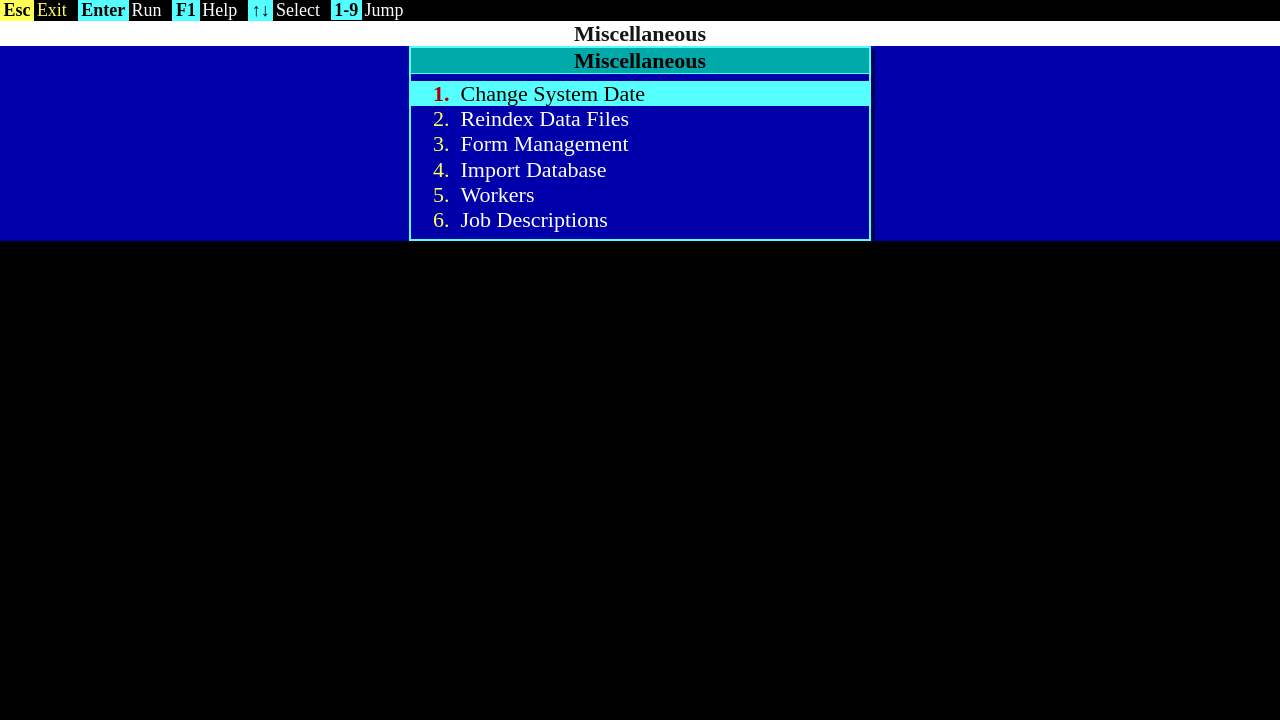
MiscScreen › asks before leaving unsaved job description edits
Click the button "6.Job Descriptions". click: (534, 220)
box: [411, 207, 869, 233]
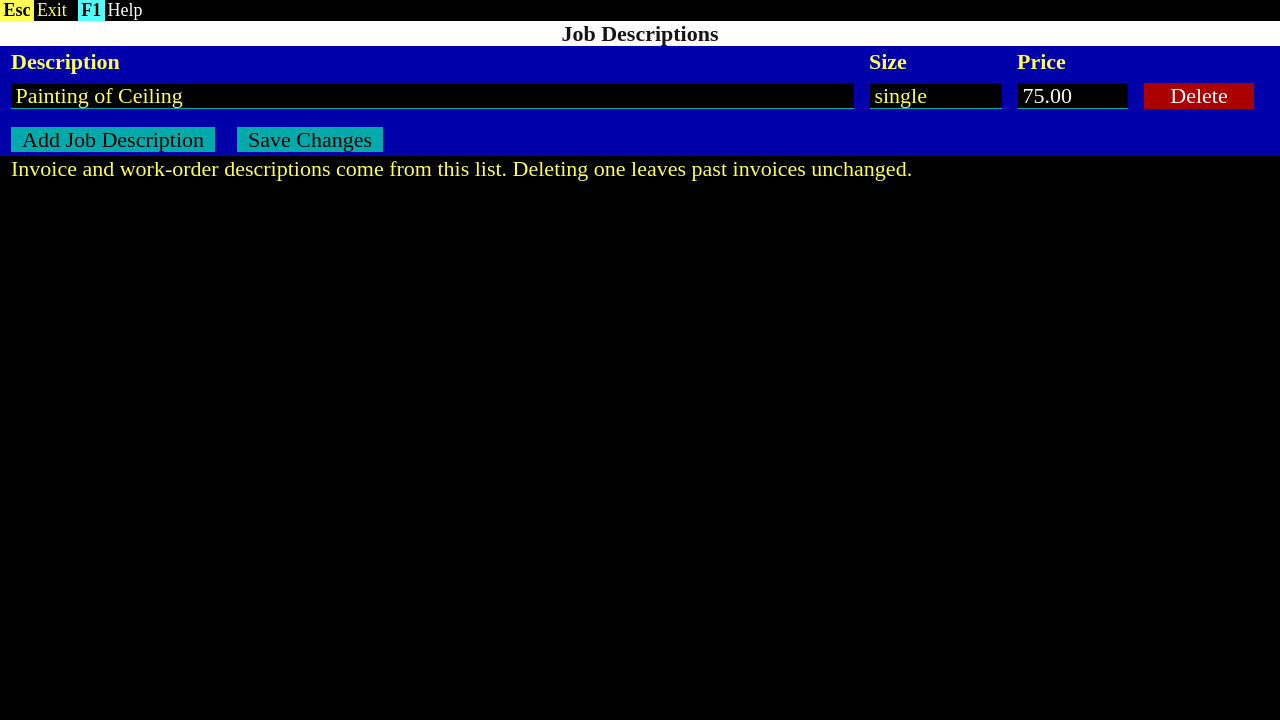
Type " extra" into the field named "Job description 1". click: (432, 96)
box: [11, 83, 854, 109]
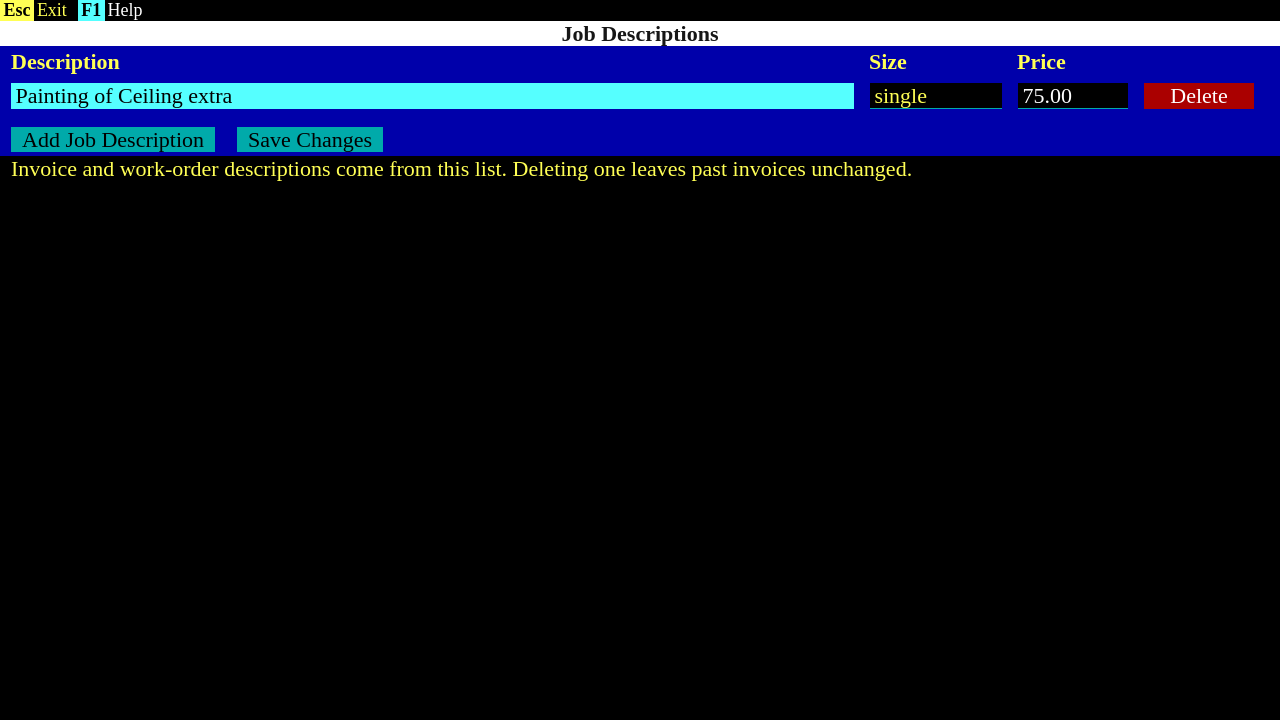
Press Escape
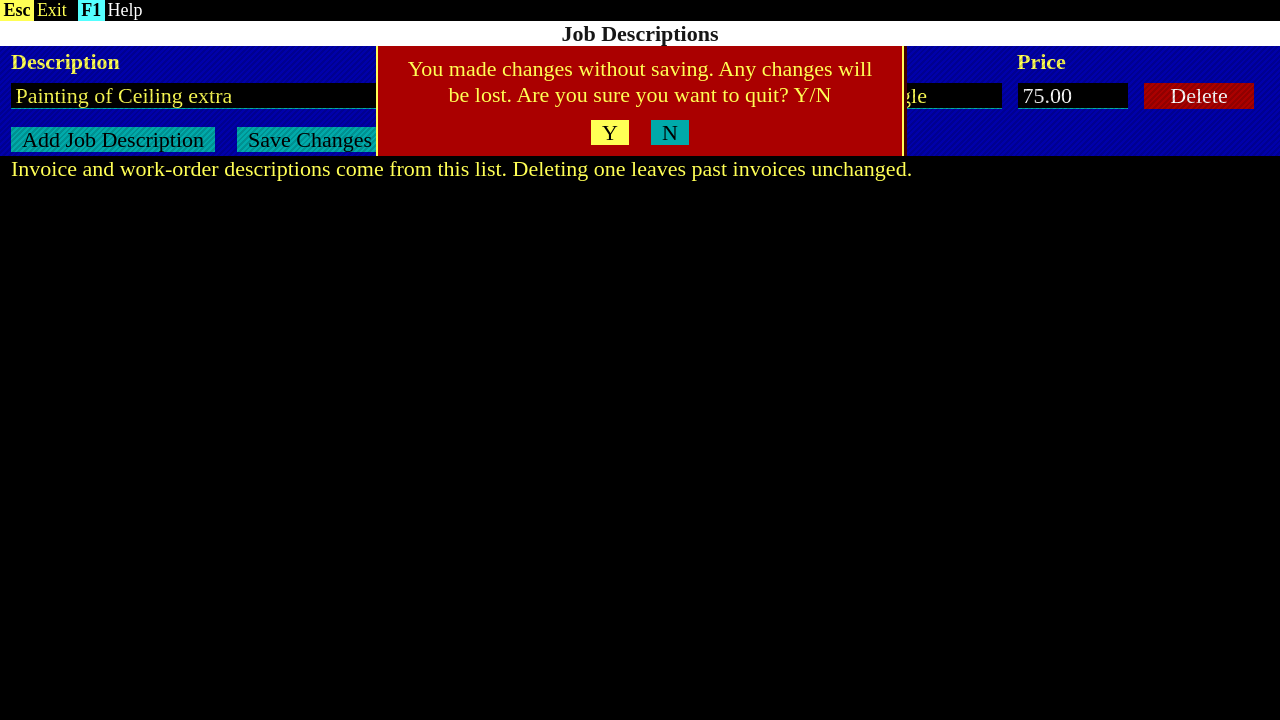
expect the text "You made changes without saving. Any changes will be lost. Are you sure you want to quit? Y/N" is shown: met, box [408, 56, 872, 107]
Type keys "n"
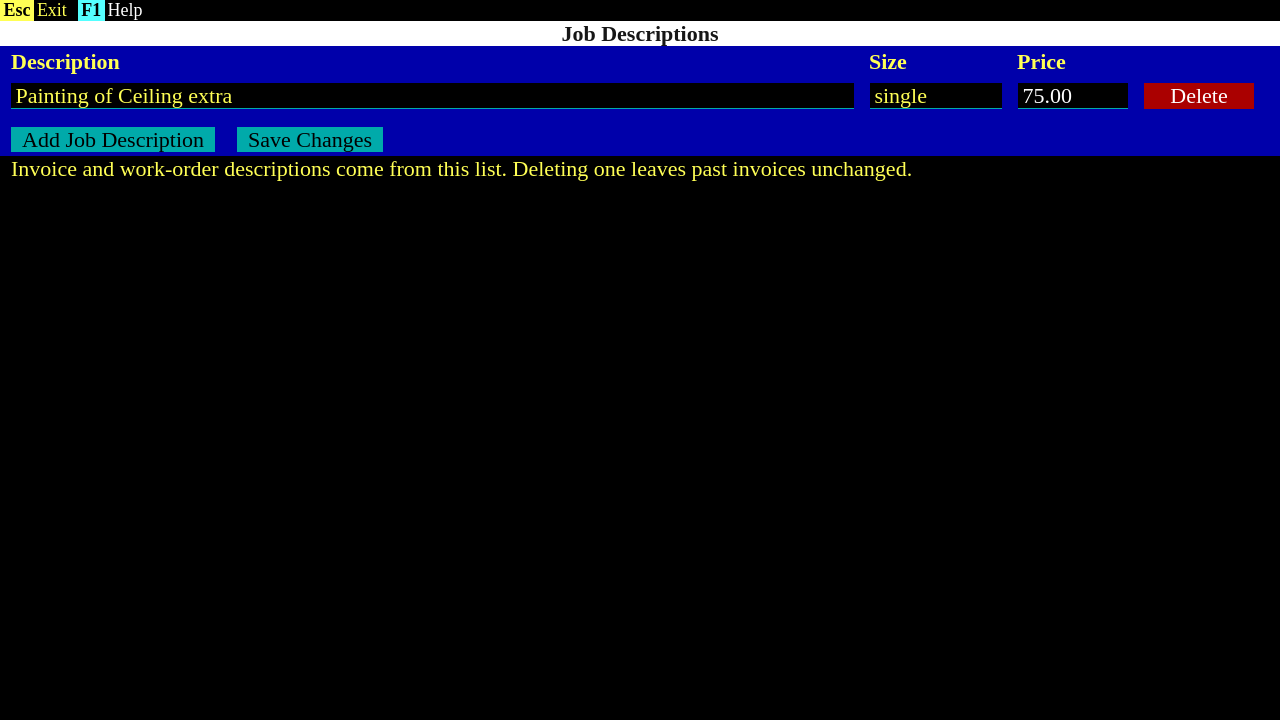
Press Escape
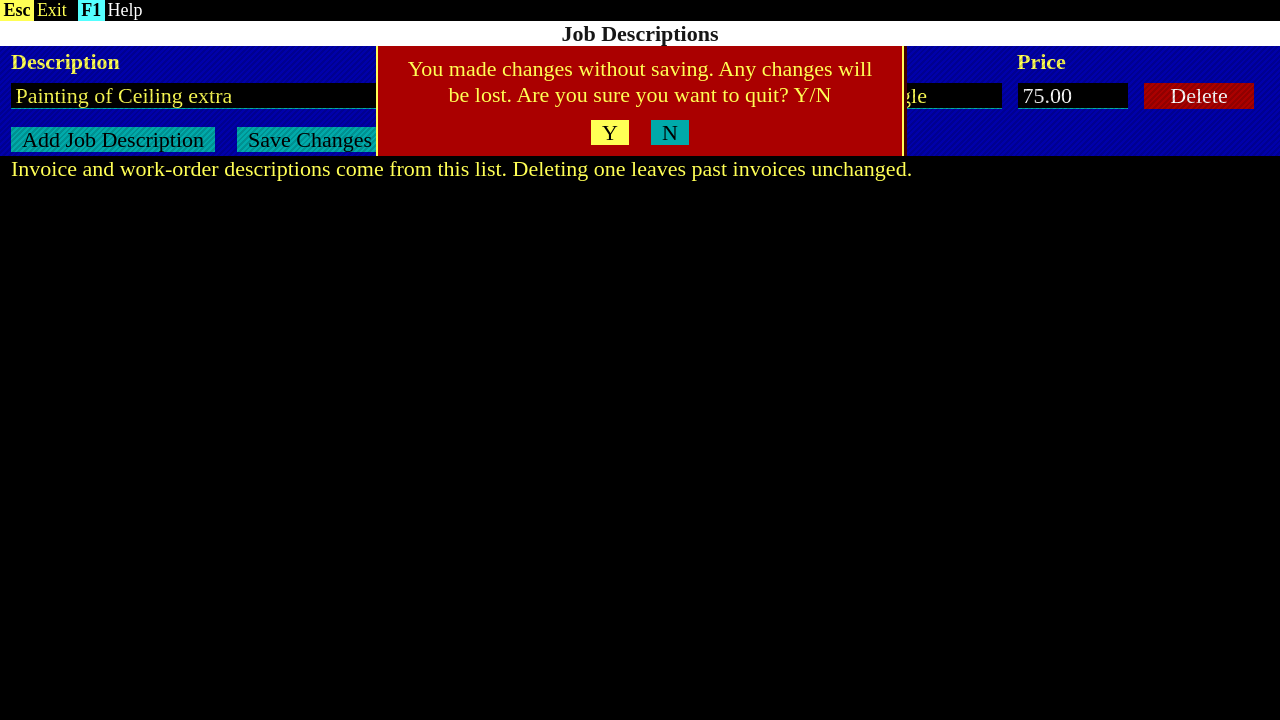
Type keys "y"
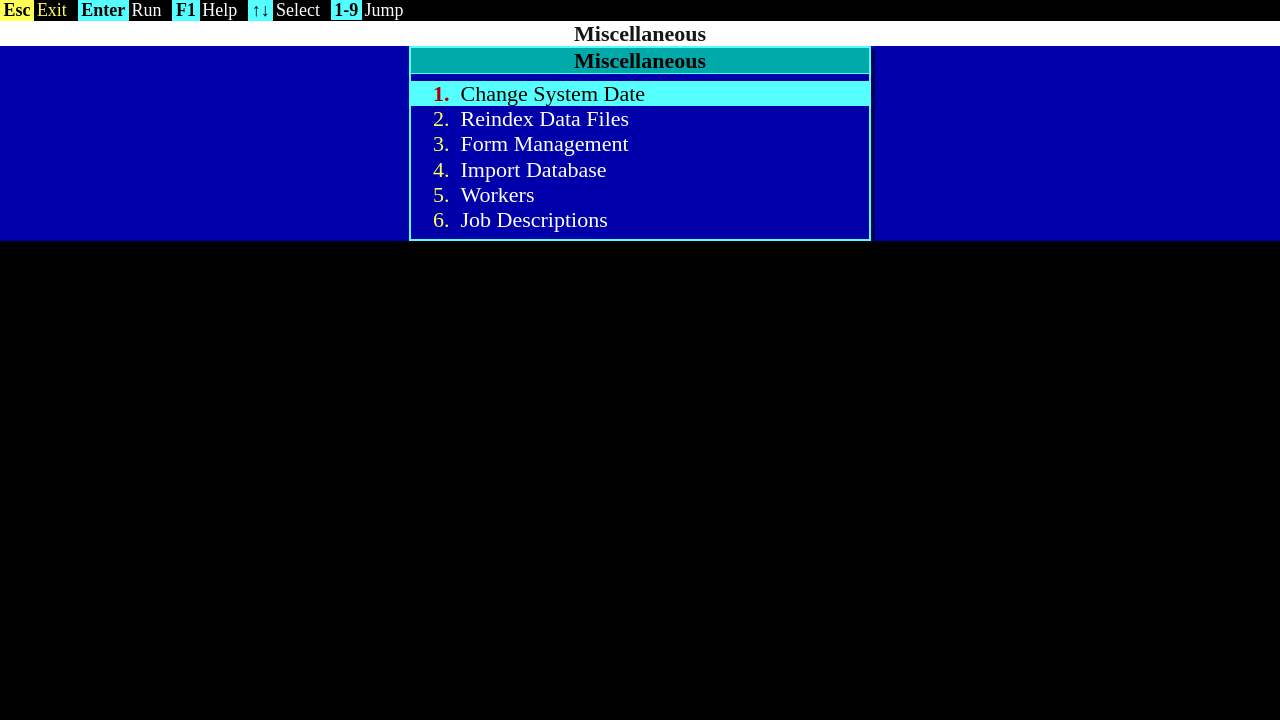
expect the button "6.Job Descriptions" is shown: met, box [411, 207, 869, 233]
